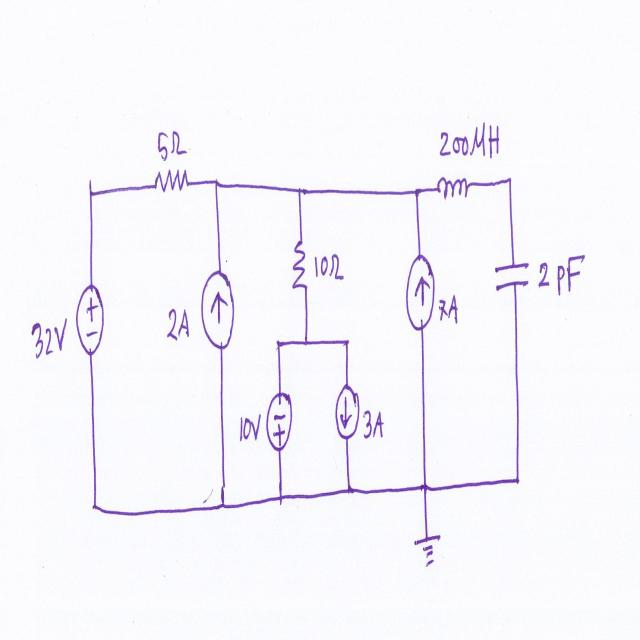capacitor: (491, 257, 534, 300)
current_source: (197, 268, 234, 356), (404, 248, 437, 343), (335, 377, 361, 450)
ground: (413, 532, 443, 576)
inductor: (436, 173, 472, 209)
resistor: (149, 167, 189, 202), (290, 238, 312, 298)
voltage_source: (75, 278, 107, 361), (264, 389, 294, 457)
